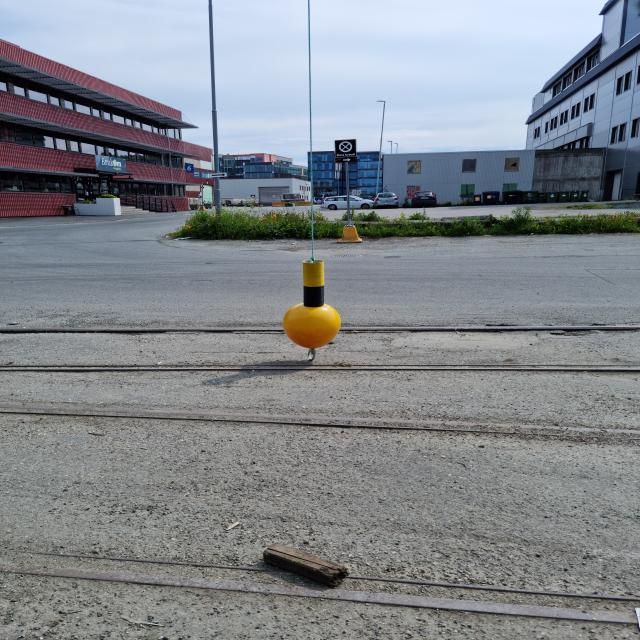west: (282, 259, 340, 347)
